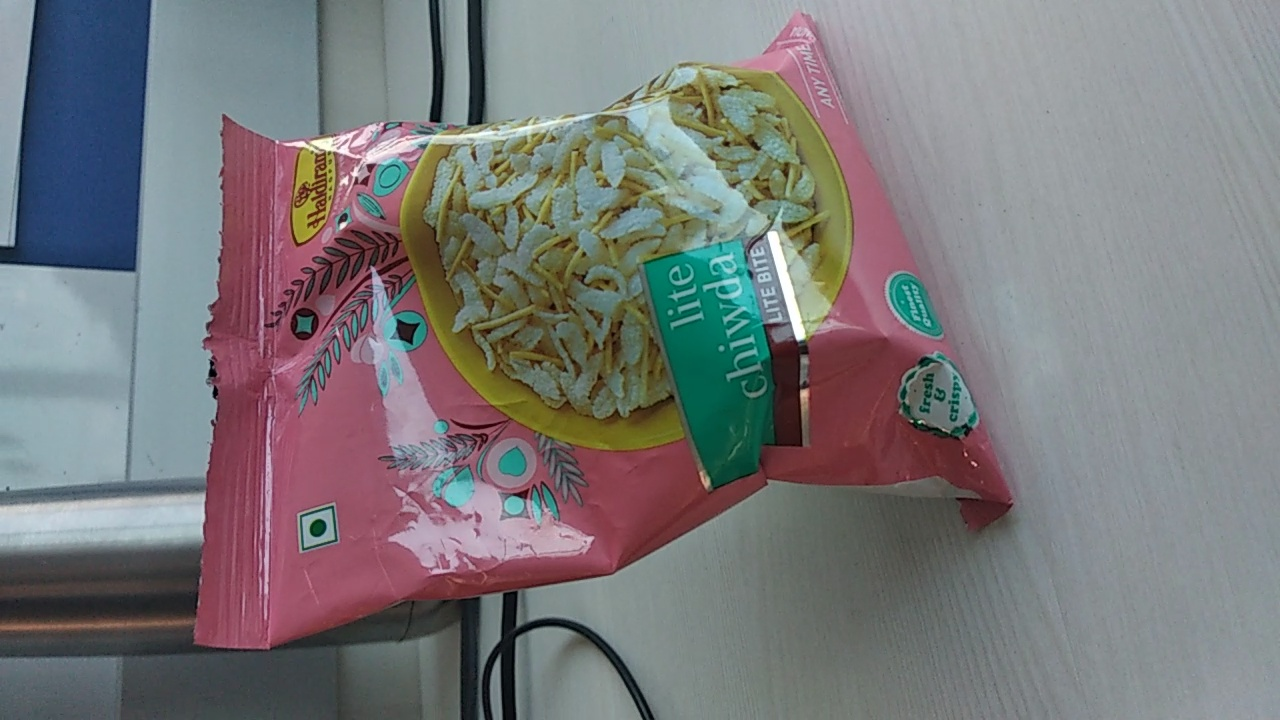liteSnack: (206, 4, 1026, 663)
